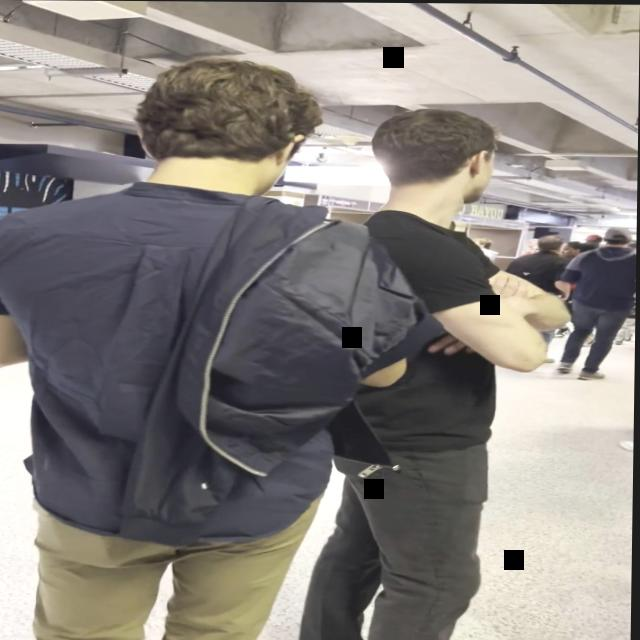NO-Mask: (468, 141, 496, 201)
